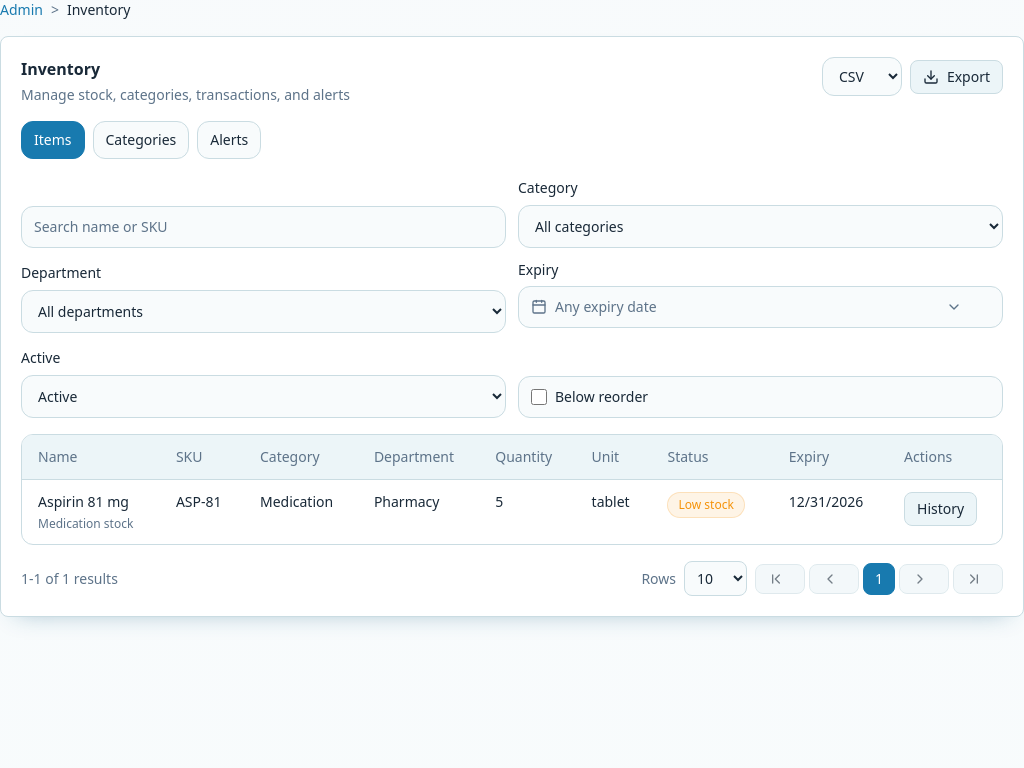
Test: InventoryPage › shows an empty history dialog when an item has no transaction history
expect the text "Aspirin 81 mg" is shown: met, box [38,492,144,512]
Click the button "History" at (941, 509), box [904,492,977,526]
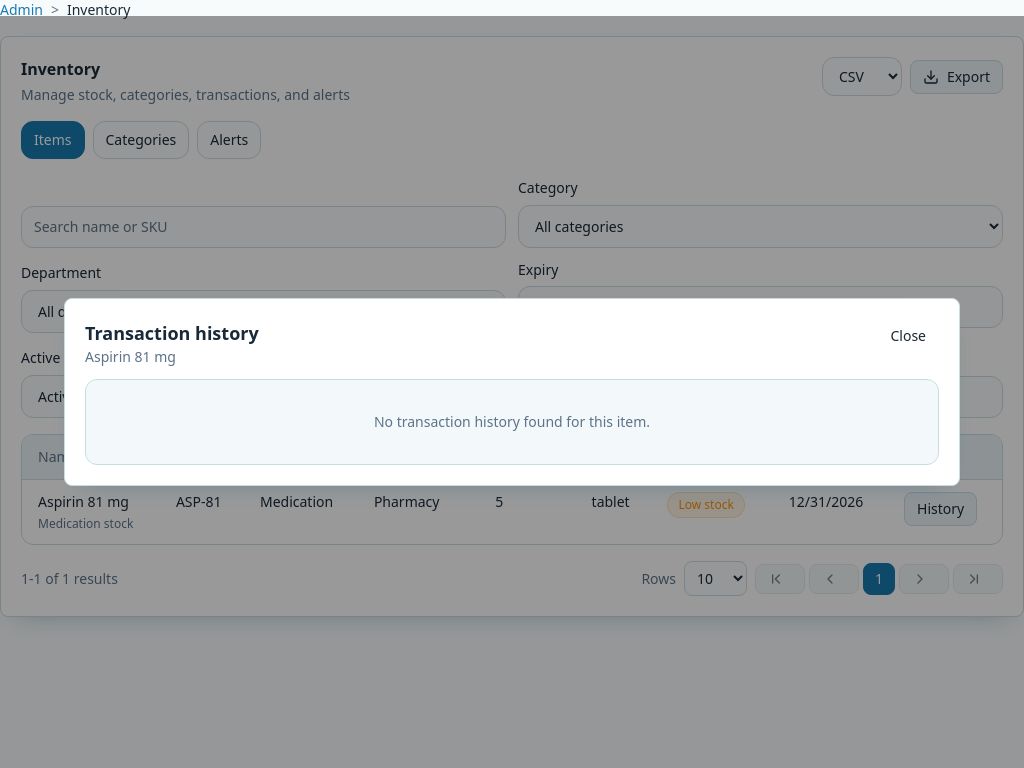
expect the dialog "Transaction history" is shown: met, box [64,298,960,486]
expect the text "No transaction history found for this item." is shown: met, box [85,379,939,465]
